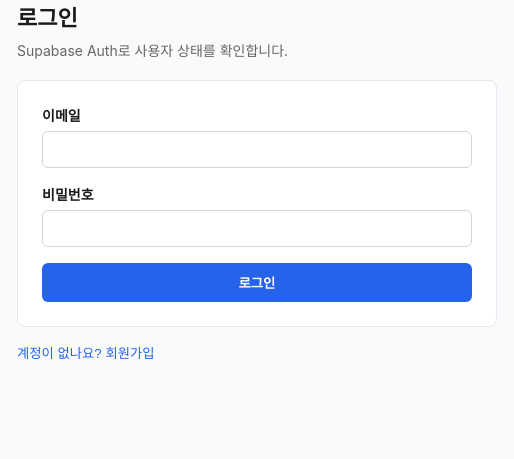
Scenario: LoginPage › 회원가입 뒤 세션이 없으면 이메일 확인 안내를 보여준다
This screenshot has width=514, height=459.
Click the button "계정이 없나요? 회원가입".
click(86, 352)  # box top-left (17, 343), bottom-right (154, 362)
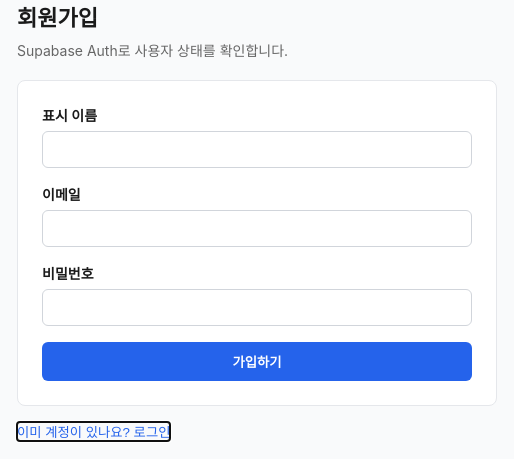
Type "학습자" into the field labelled "표시 이름".
click(257, 150); type("학습자")  # box top-left (42, 131), bottom-right (472, 168)
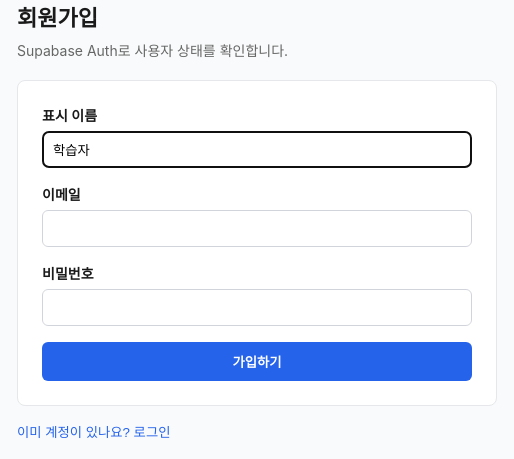
Type "learner@example.com" into the field labelled "이메일".
click(257, 228); type("learner@example.com")  # box top-left (42, 210), bottom-right (472, 247)
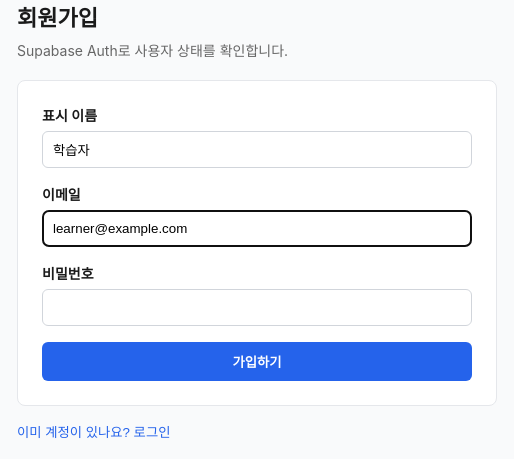
Type "password123" into the password field labelled "비밀번호".
click(257, 308); type("password123")  # box top-left (42, 289), bottom-right (472, 326)
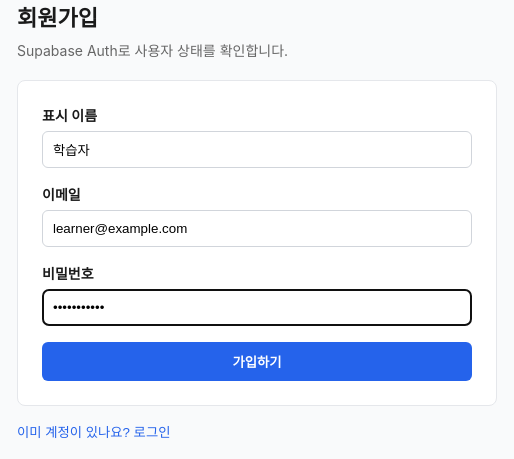
Click the button "가입하기".
click(257, 362)  # box top-left (42, 342), bottom-right (472, 381)
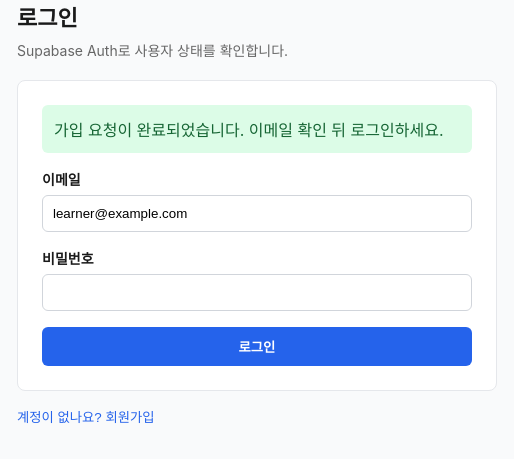
Result: the message shows "이메일 확인 뒤 로그인하세요" at top-left (54, 120), bottom-right (444, 140)
